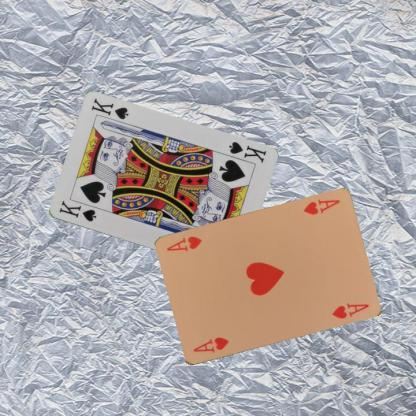Ah: (300, 196, 341, 216), (190, 334, 230, 354)
Ks: (225, 139, 268, 164), (56, 198, 98, 223)
